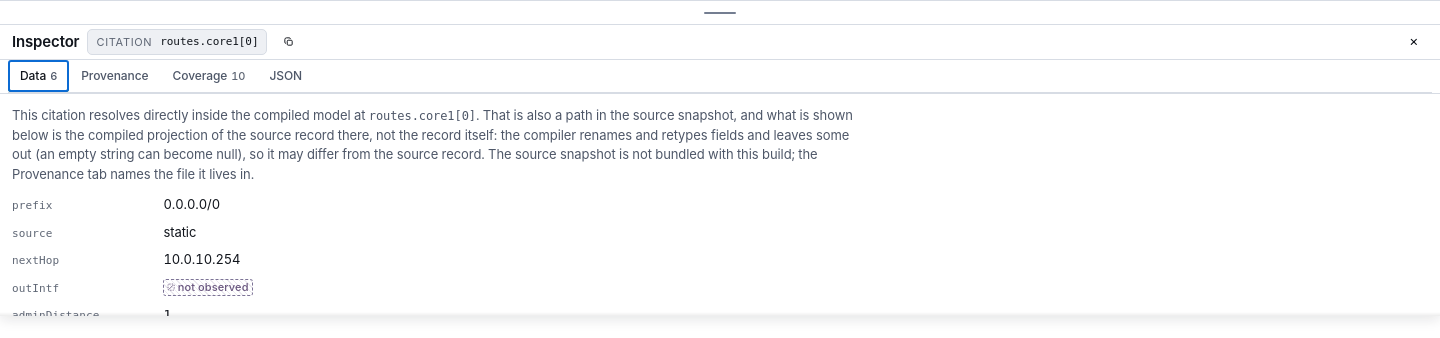
Test: JsonView is a real tree over the real document › a row that names a record opens it (B6) › goes through openInspector: the docked Inspector is re-pointed at the record the row names
Click the tab "JSON" at coordinates (286, 76), box [257, 60, 314, 92]
(page scrolled)
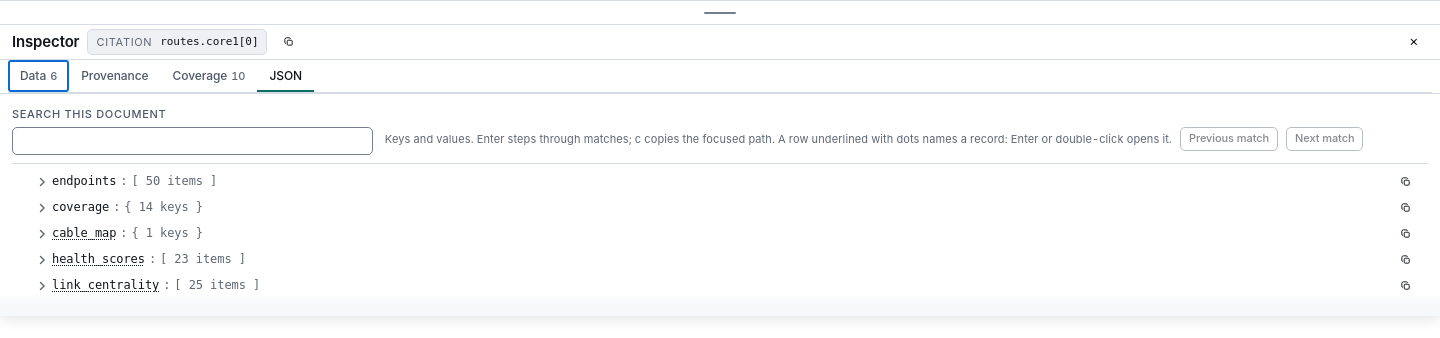
Expected: the list item "cable_map : { 1 keys }" is shown
Press Enter in the list item "cable_map : { 1 keys }", box [12, 220, 1428, 246]
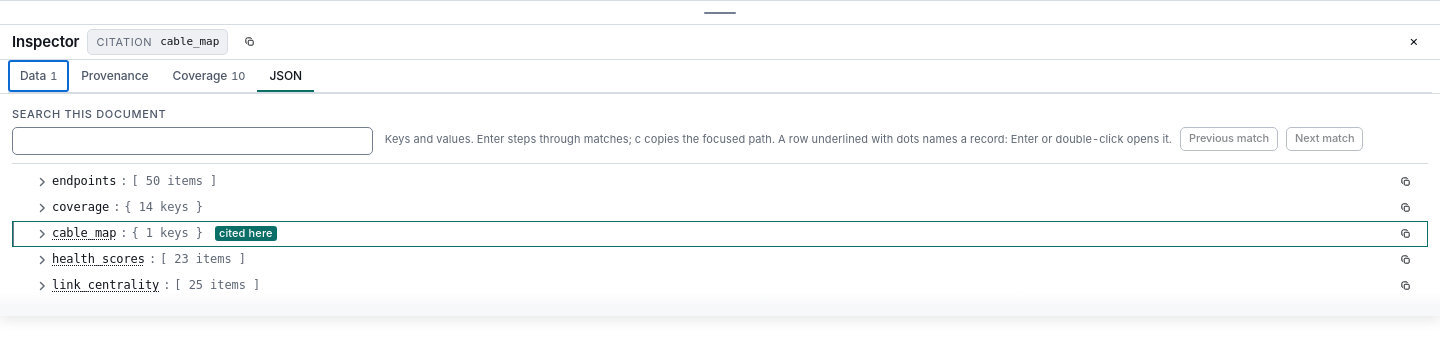
Expected: the text "cable_map" next to "citation" is shown, [160, 35, 219, 48]
